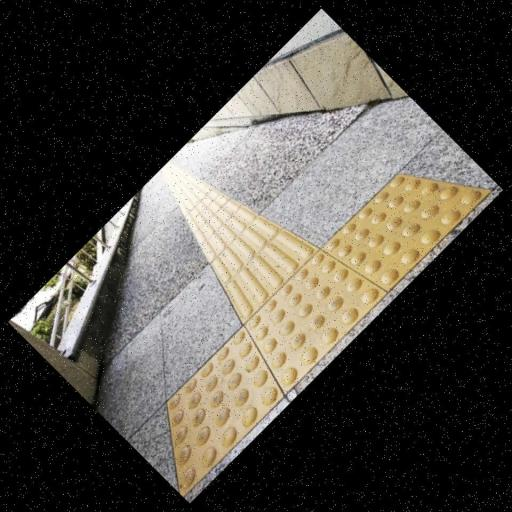dot: (243, 246, 389, 393), (322, 169, 489, 292), (165, 327, 284, 498)
line: (219, 228, 316, 322), (205, 215, 281, 289)
